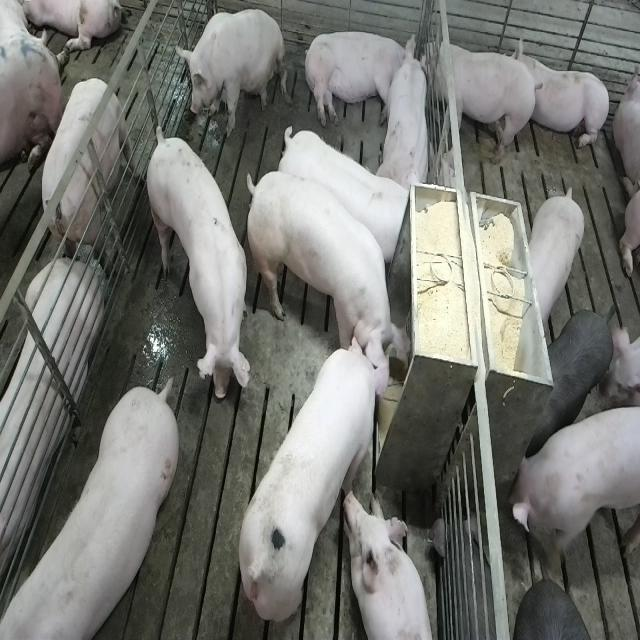Feeding: (236, 333, 398, 625), (250, 168, 416, 381)
Lateral_lying: (302, 29, 419, 128)
Sitting: (174, 6, 286, 138)
Standing: (0, 383, 176, 640), (144, 128, 247, 410), (507, 400, 639, 576), (33, 77, 134, 276), (278, 122, 411, 260), (424, 31, 538, 166), (529, 304, 612, 456), (528, 187, 590, 334)
Sternal_lying: (0, 262, 100, 604), (345, 487, 437, 640), (515, 34, 612, 154), (378, 44, 434, 198)
